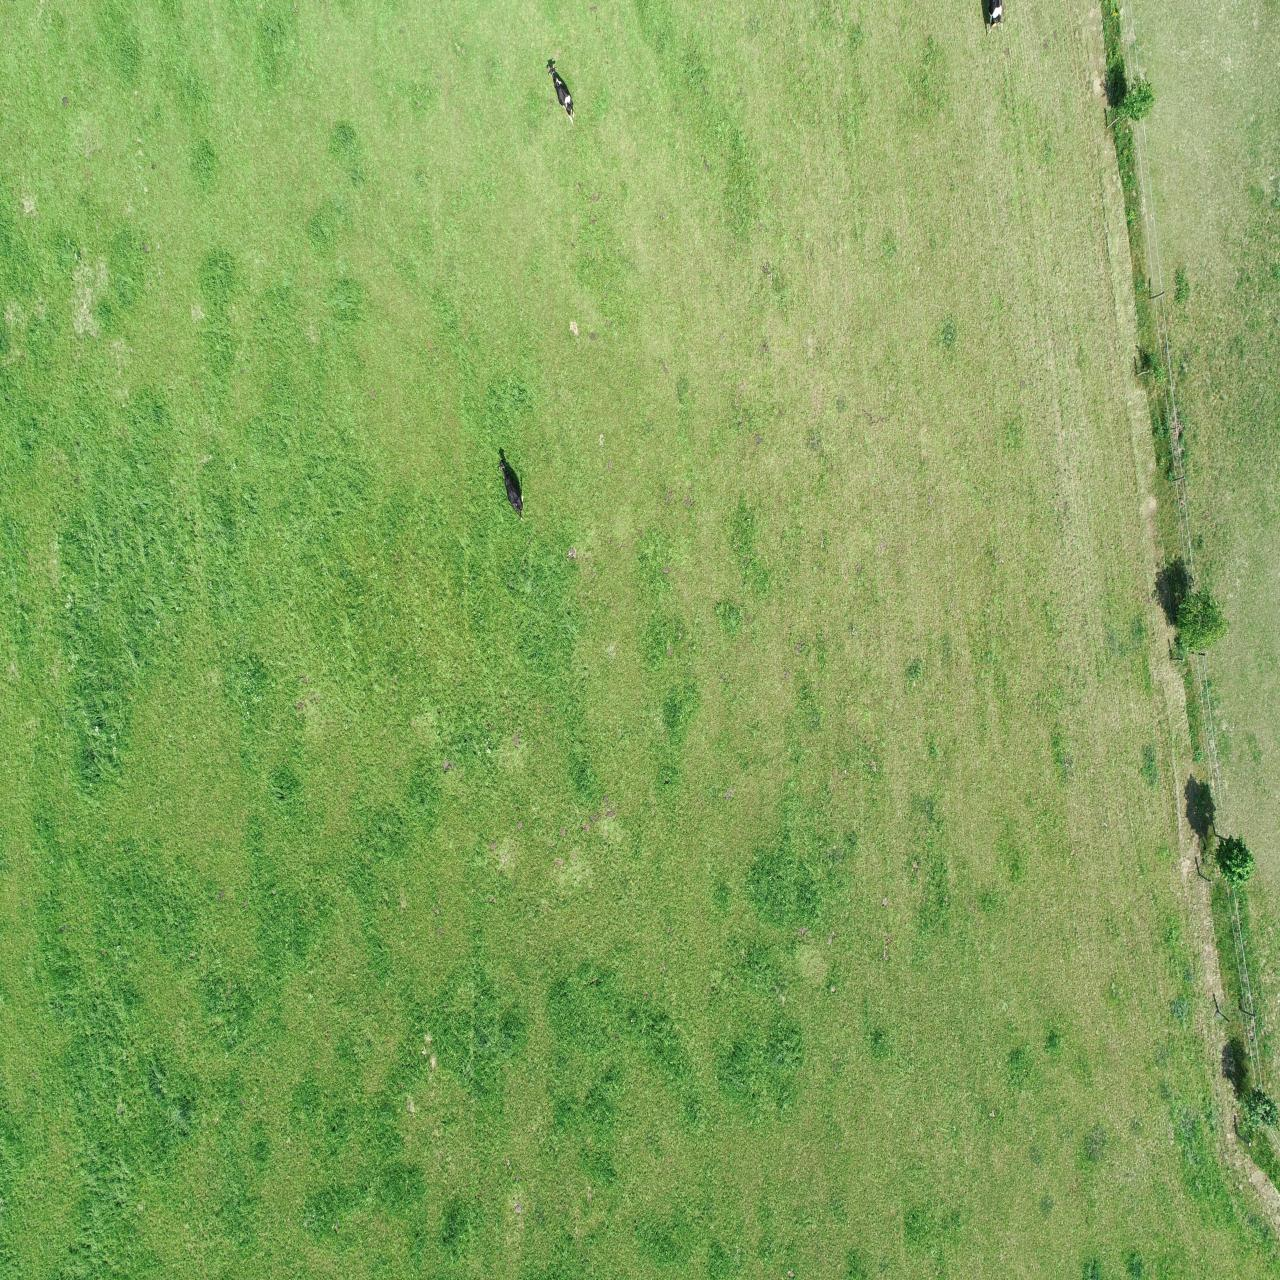cow: (495, 457, 527, 523), (545, 60, 577, 127)
